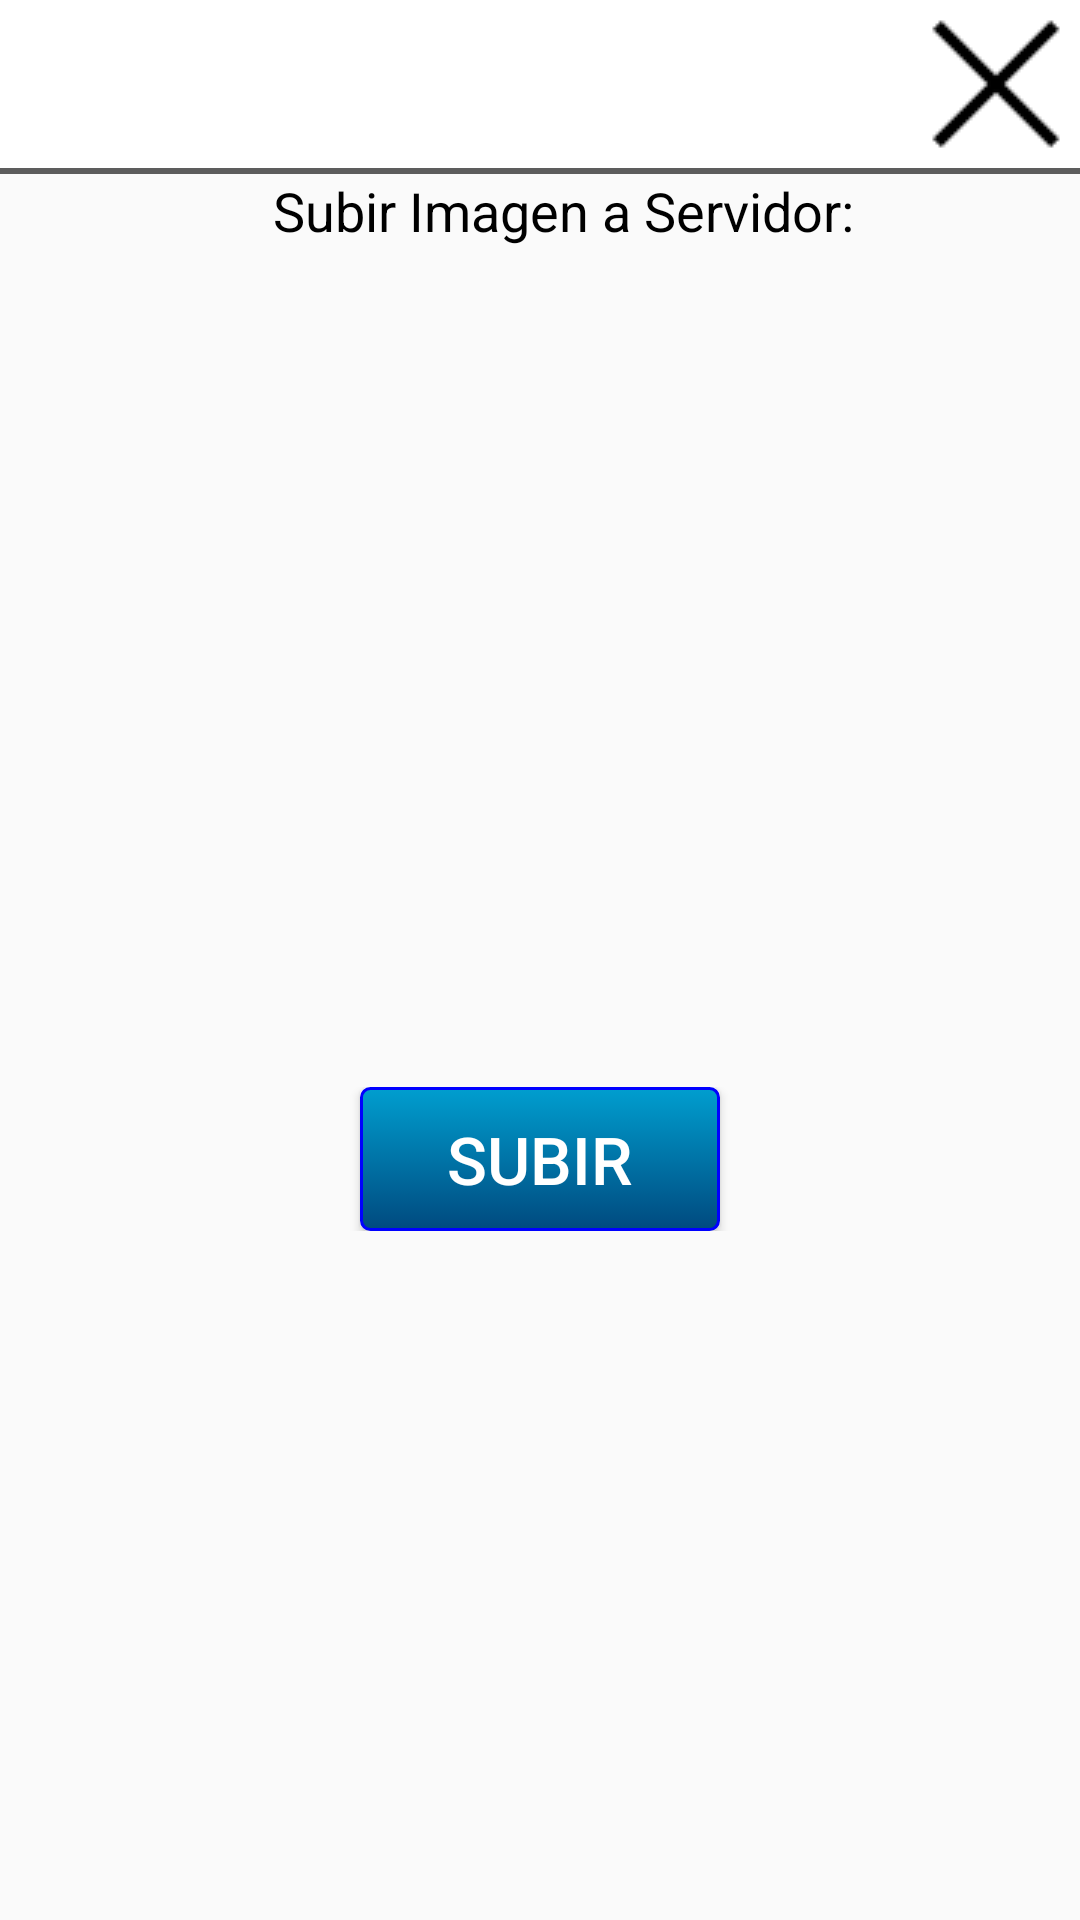

Where to tap for icons on this 1080x1920 app screen, as (x,y):
close: (996,84)
